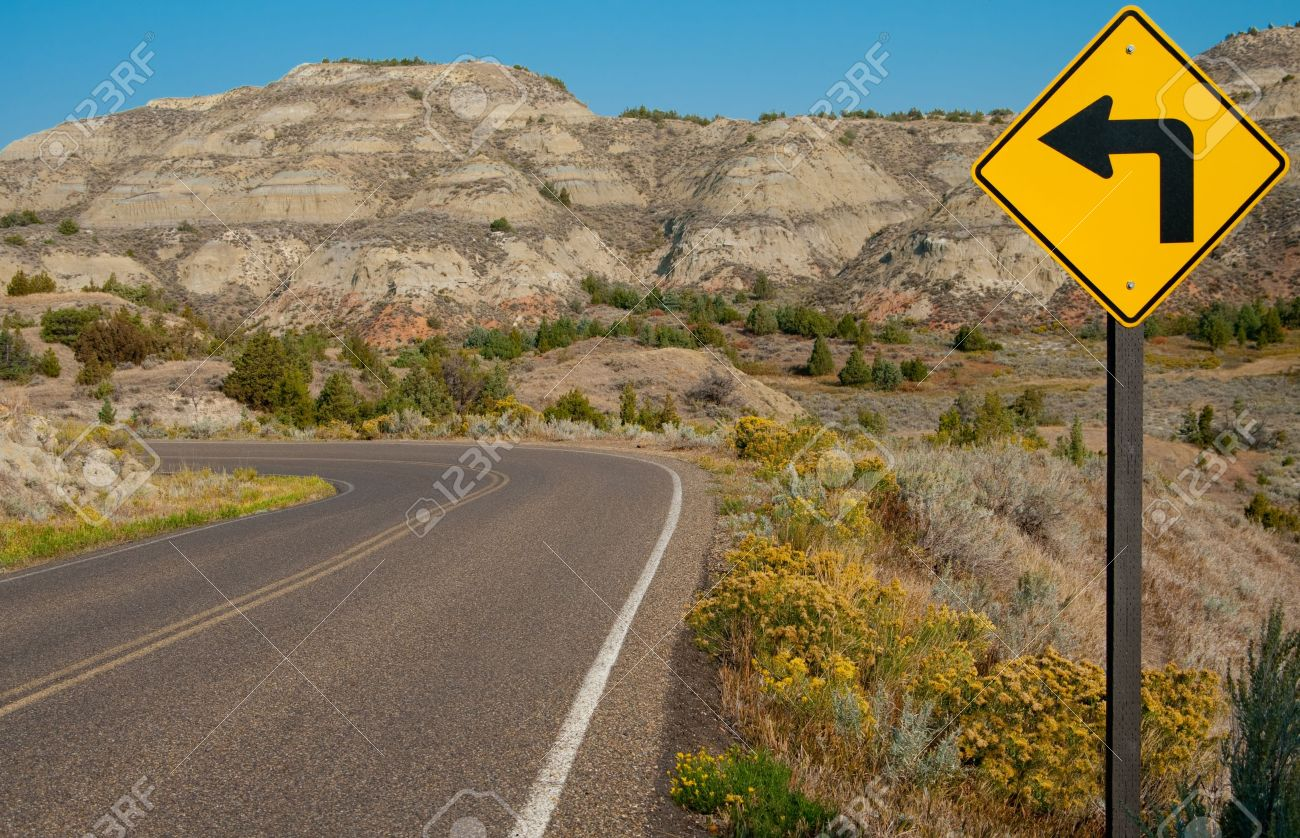left: (964, 2, 1292, 332)
